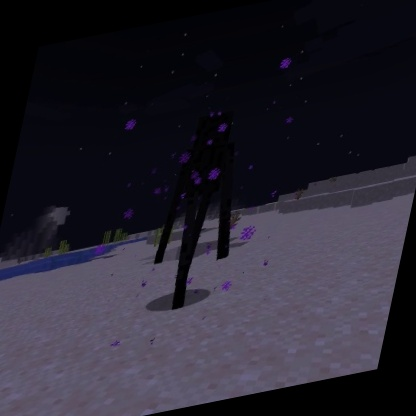enderman: (136, 100, 265, 321)
